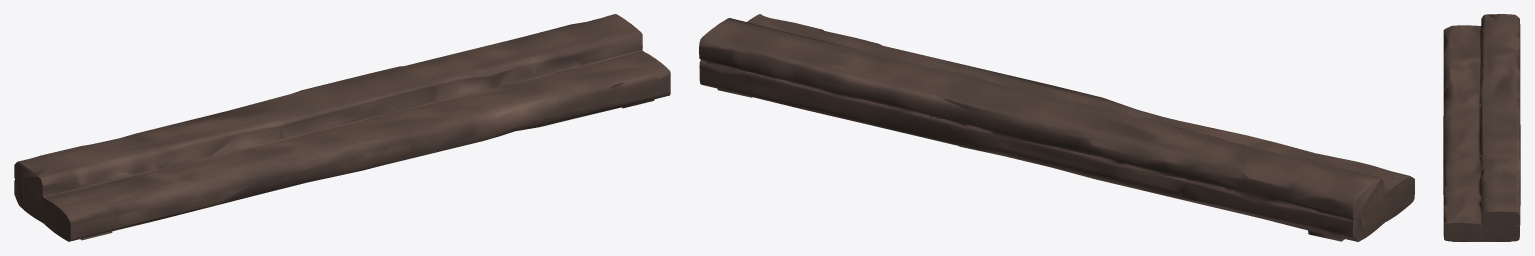
The model's file is travi_impilate.glb.
The picture shows the model from 3 angles, left to right: view 1: azimuth 30°, elevation 25°; view 2: azimuth 150°, elevation 25°; view 3: azimuth 270°, elevation 25°; orthographic projection. The views are drawn at different scales.
Parts seen in each view (by area): view 1: Mesh_0; view 2: Mesh_0; view 3: Mesh_0.
Part boxes in pixels (x1,y1,x2,y2): Mesh_0: (14, 14, 670, 241); Mesh_0: (699, 14, 1414, 241); Mesh_0: (1443, 14, 1520, 241).
Bounding box in the file's own units: 1.9 × 0.154 × 0.3135.
1 material, 1 textured.
